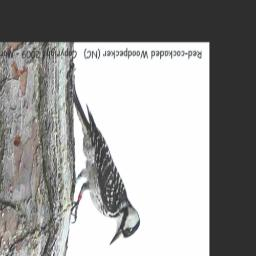Woodpecker: (68, 74, 142, 246)
